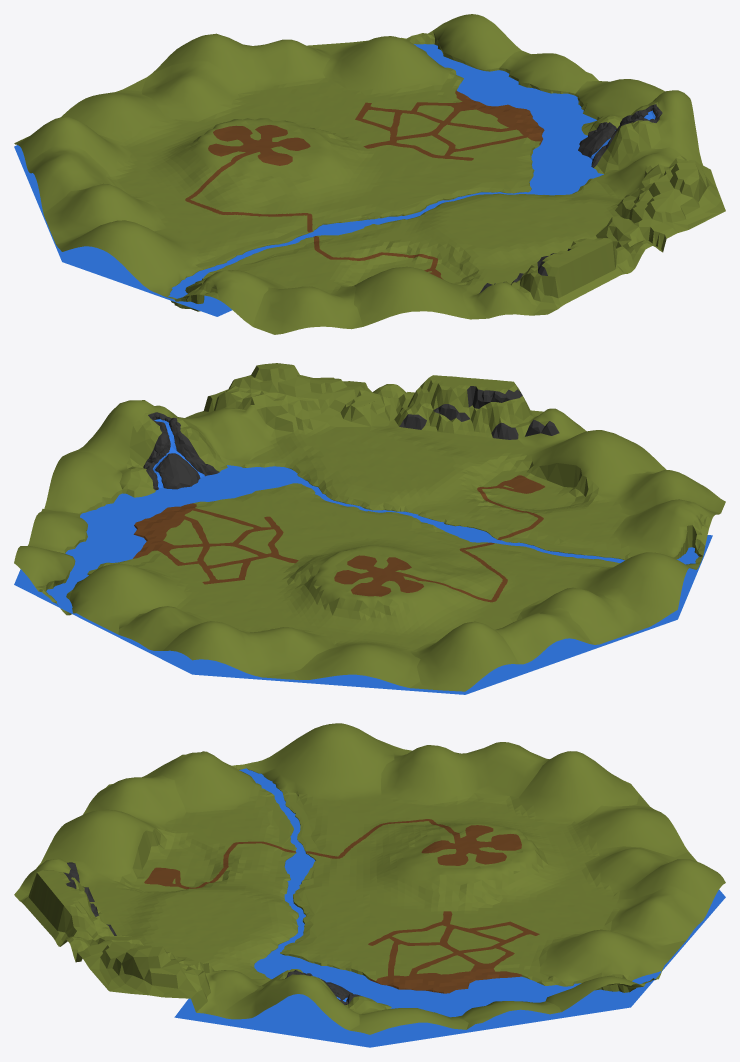
The model's file is Terreno.fbx.
3 renders of one model, top to bottom at view 1: azimuth 30°, elevation 25°; view 2: azimuth 150°, elevation 25°; view 3: azimuth 270°, elevation 25°, orthographic.
Parts seen in each view (by area): view 1: Mapa Kaingangue.004, Mapa Kaingangue.005, Agua, Mapa Kaingangue.002, Mapa Kaingangue.000, Mapa Kaingangue.006, Mapa Kaingangue.007, Mapa Kaingangue.022, Mapa Kaingangue.019, Mapa Kaingangue.015, Mapa Kaingangue.003, Mapa Kaingangue.014 (+13 smaller); view 2: Mapa Kaingangue.004, Mapa Kaingangue.005, Agua, Mapa Kaingangue.002, Mapa Kaingangue.000, Mapa Kaingangue.007, Mapa Kaingangue.022, Mapa Kaingangue.006, Mapa Kaingangue.015, Mapa Kaingangue.011, Mapa Kaingangue.019, Mapa Kaingangue.020 (+13 smaller); view 3: Mapa Kaingangue.005, Mapa Kaingangue.004, Agua, Mapa Kaingangue.007, Mapa Kaingangue.002, Mapa Kaingangue.000, Mapa Kaingangue.006, Mapa Kaingangue.015, Mapa Kaingangue.011, Mapa Kaingangue.012, Mapa Kaingangue.022, Mapa Kaingangue.026 (+13 smaller).
Boxes of the visible parts, x1,y1,x2,y2 form: Mapa Kaingangue.004: (115, 97, 396, 263); Mapa Kaingangue.005: (244, 75, 544, 216); Agua: (14, 44, 603, 316); Mapa Kaingangue.002: (416, 178, 621, 282); Mapa Kaingangue.000: (226, 217, 501, 291); Mapa Kaingangue.006: (306, 14, 521, 94); Mapa Kaingangue.007: (56, 220, 287, 326); Mapa Kaingangue.022: (578, 90, 702, 175); Mapa Kaingangue.019: (587, 172, 725, 252); Mapa Kaingangue.015: (354, 266, 470, 326); Mapa Kaingangue.003: (141, 61, 242, 121); Mapa Kaingangue.014: (253, 286, 362, 334); Mapa Kaingangue.004: (254, 518, 600, 651); Mapa Kaingangue.005: (99, 483, 416, 631); Agua: (14, 465, 712, 694); Mapa Kaingangue.002: (241, 426, 502, 512); Mapa Kaingangue.000: (410, 445, 625, 557); Mapa Kaingangue.007: (563, 499, 720, 626); Mapa Kaingangue.022: (78, 400, 244, 497); Mapa Kaingangue.006: (14, 546, 186, 634); Mapa Kaingangue.015: (522, 430, 666, 502); Mapa Kaingangue.011: (410, 621, 518, 691); Mapa Kaingangue.019: (280, 363, 393, 433); Mapa Kaingangue.020: (204, 363, 314, 439); Mapa Kaingangue.005: (280, 873, 618, 993); Mapa Kaingangue.004: (285, 798, 612, 892); Agua: (174, 768, 725, 1047); Mapa Kaingangue.007: (142, 723, 402, 812); Mapa Kaingangue.002: (99, 890, 298, 979); Mapa Kaingangue.000: (105, 804, 296, 898); Mapa Kaingangue.006: (530, 929, 685, 1011); Mapa Kaingangue.015: (41, 809, 173, 882); Mapa Kaingangue.011: (512, 751, 638, 824); Mapa Kaingangue.012: (456, 742, 549, 804); Mapa Kaingangue.022: (217, 969, 391, 1030); Mapa Kaingangue.026: (576, 805, 688, 857).
Size of the model in its own units: 11000 by 1142 by 11000.
